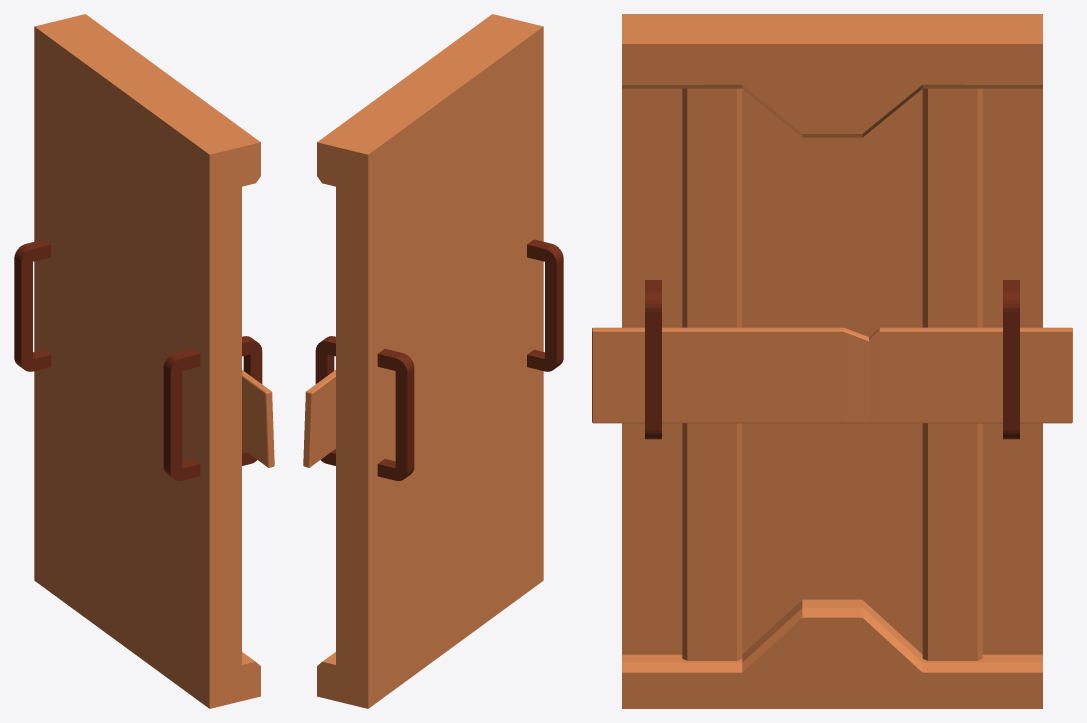
The model's file is Gate04_Kikl.fbx.
3 views of the same model, side by side, from view 1: azimuth 30°, elevation 25°; view 2: azimuth 150°, elevation 25°; view 3: azimuth 270°, elevation 25° (orthographic). The views are drawn at different scales.
Visible parts, largest first — view 1: Cube.016, Cube.017, Cube.018; view 2: Cube.016, Cube.017, Cube.018; view 3: Cube.016, Cube.018, Cube.017.
Boxes of the visible parts, left/top/right/bottom form: Cube.016: left=34, top=14, right=260, bottom=708; Cube.017: left=14, top=239, right=262, bottom=480; Cube.018: left=242, top=370, right=274, bottom=467; Cube.016: left=317, top=14, right=543, bottom=708; Cube.017: left=315, top=239, right=563, bottom=480; Cube.018: left=303, top=370, right=335, bottom=467; Cube.016: left=622, top=14, right=1042, bottom=708; Cube.018: left=592, top=327, right=1072, bottom=423; Cube.017: left=645, top=280, right=1019, bottom=439.
Bounding box in the file's own units: 172 × 991 × 649.
